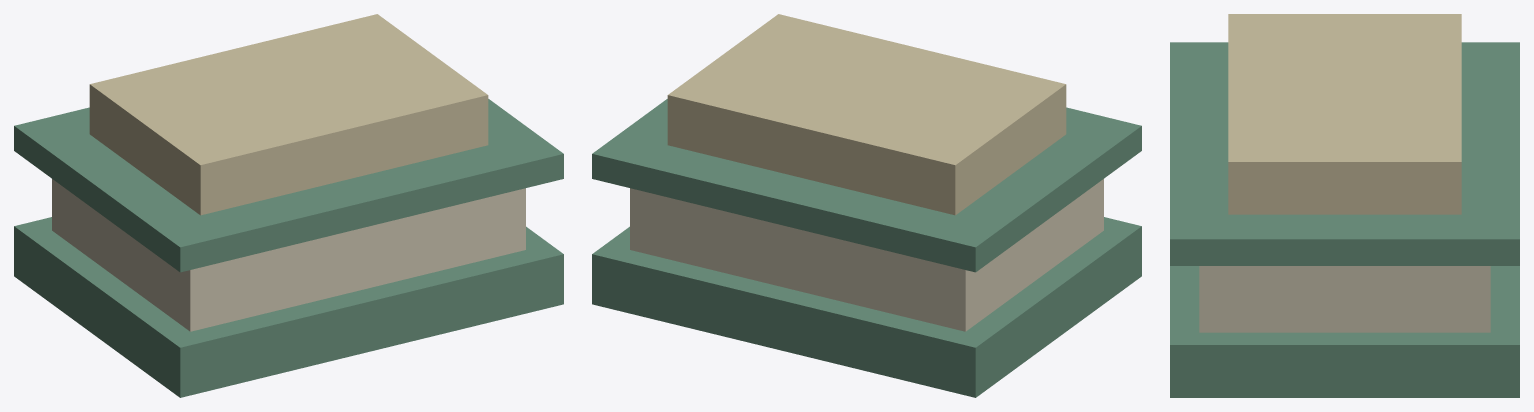
Rendered from finance-08.glb.
3 renders of one model, left to right at view 1: azimuth 30°, elevation 25°; view 2: azimuth 150°, elevation 25°; view 3: azimuth 270°, elevation 25°, orthographic. The views are drawn at different scales.
Parts seen in each view (by area): view 1: Ledger book; view 2: Ledger book; view 3: Ledger book.
Boxes of the visible parts, bbox=[...] form: Ledger book: bbox=[14, 14, 563, 397]; Ledger book: bbox=[592, 14, 1141, 397]; Ledger book: bbox=[1170, 14, 1519, 397].
Bounding box in the file's own units: 1.28 × 0.64 × 0.96.
